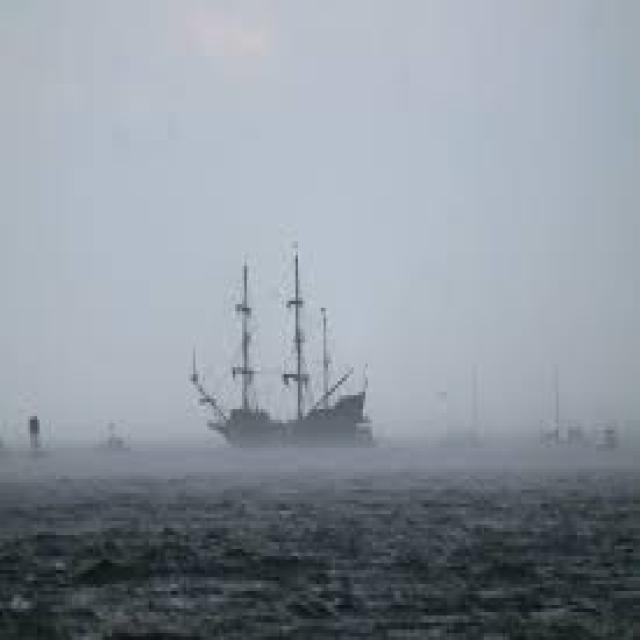fishing boat: (186, 238, 382, 444)
